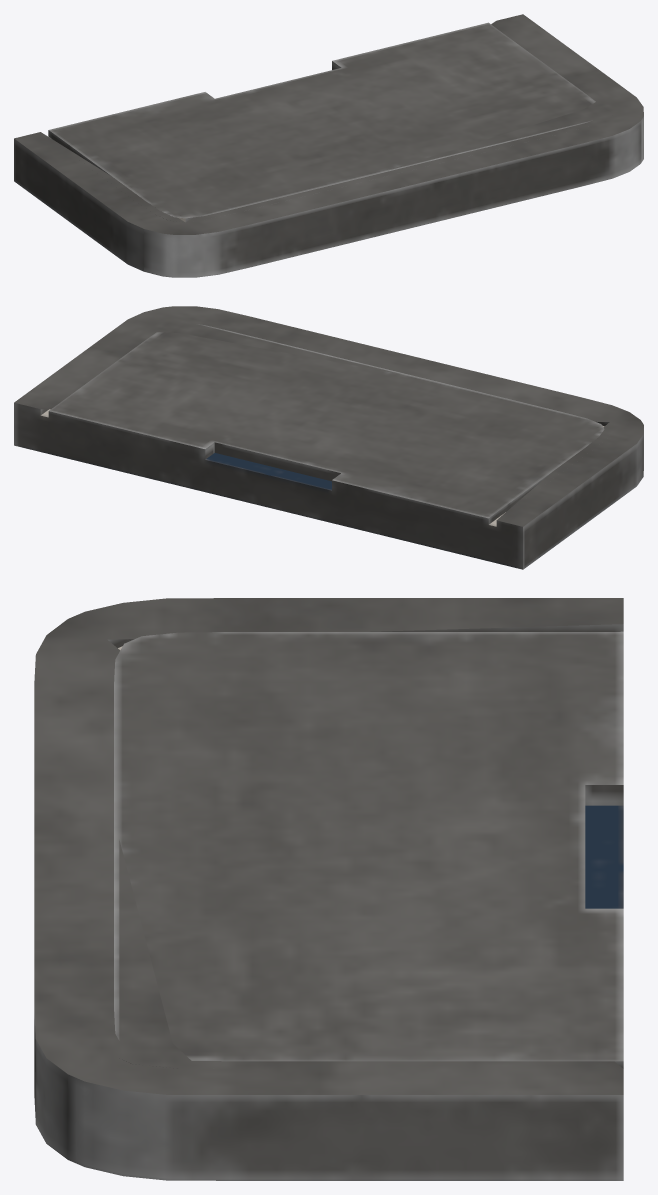
The model's file is FUT0510037.fbx.
3 views of the same model, one above another, from view 1: azimuth 30°, elevation 25°; view 2: azimuth 150°, elevation 25°; view 3: azimuth 270°, elevation 25° (orthographic). The views are drawn at different scales.
Visible parts, largest first — view 1: smFUT0510037; view 2: smFUT0510037; view 3: smFUT0510037.
Part boxes in pixels (x1,y1,x2,y2): smFUT0510037: [14, 14, 643, 277]; smFUT0510037: [14, 306, 643, 569]; smFUT0510037: [34, 598, 623, 1180].
Bounding box in the file's own units: 168 × 13.53 × 84.16.
1 material, 1 textured.
